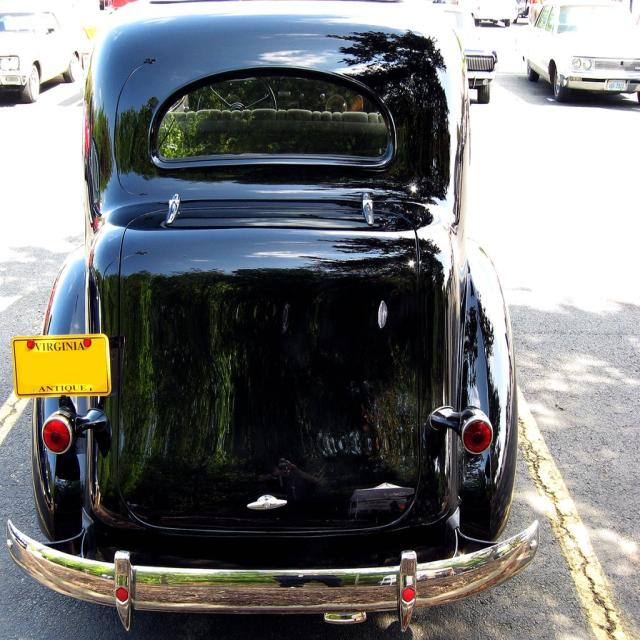car: (49, 22, 509, 618), (521, 0, 639, 97), (0, 0, 94, 97), (440, 5, 499, 106), (473, 0, 524, 27)
